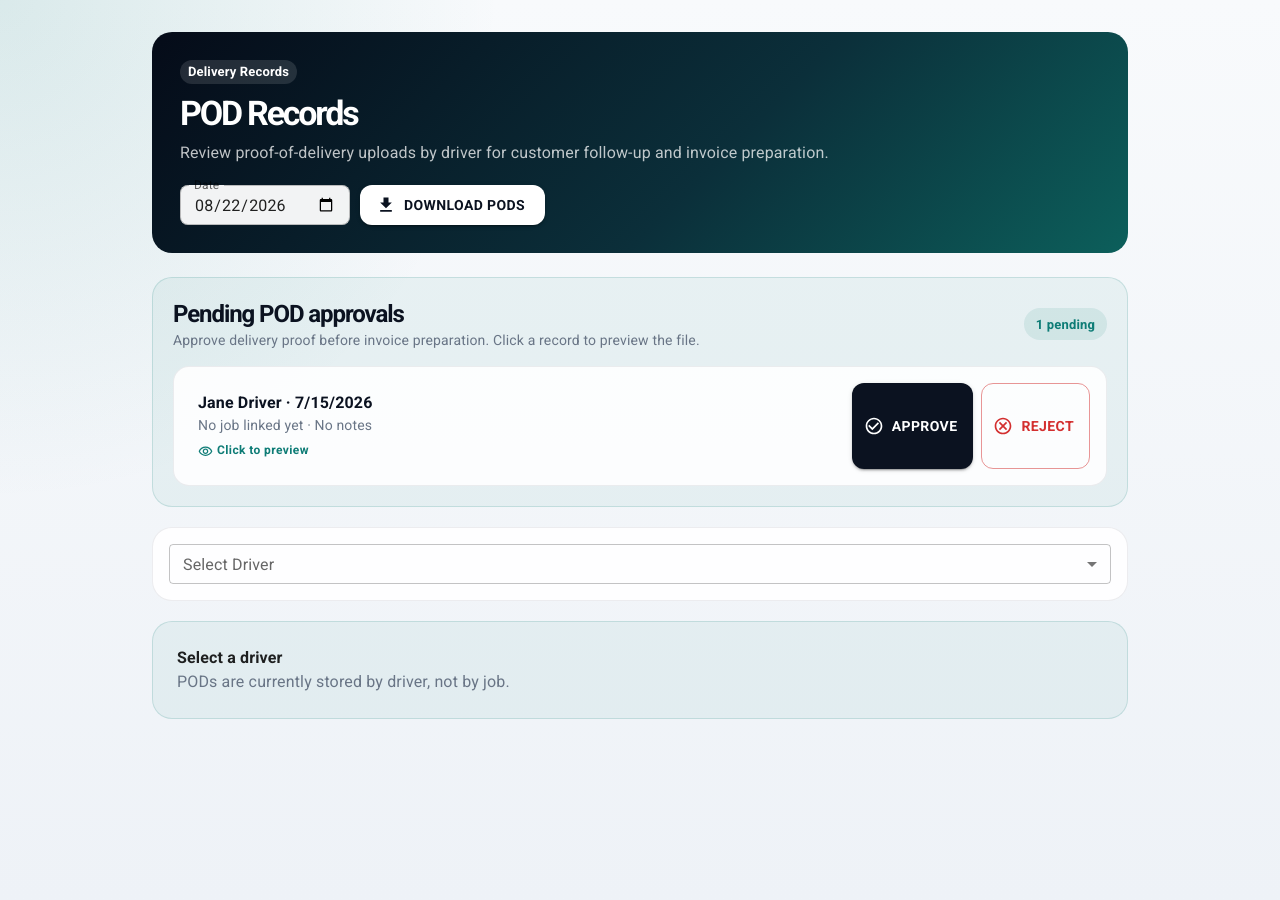
admin PodsList — inline preview › PASS: a failed preview fetch shows an error instead of a blank dialog
The image size is (1280, 900).
Click the text "Jane Driver · 7/15/2026" at (285, 403), box [198,391,372,415]
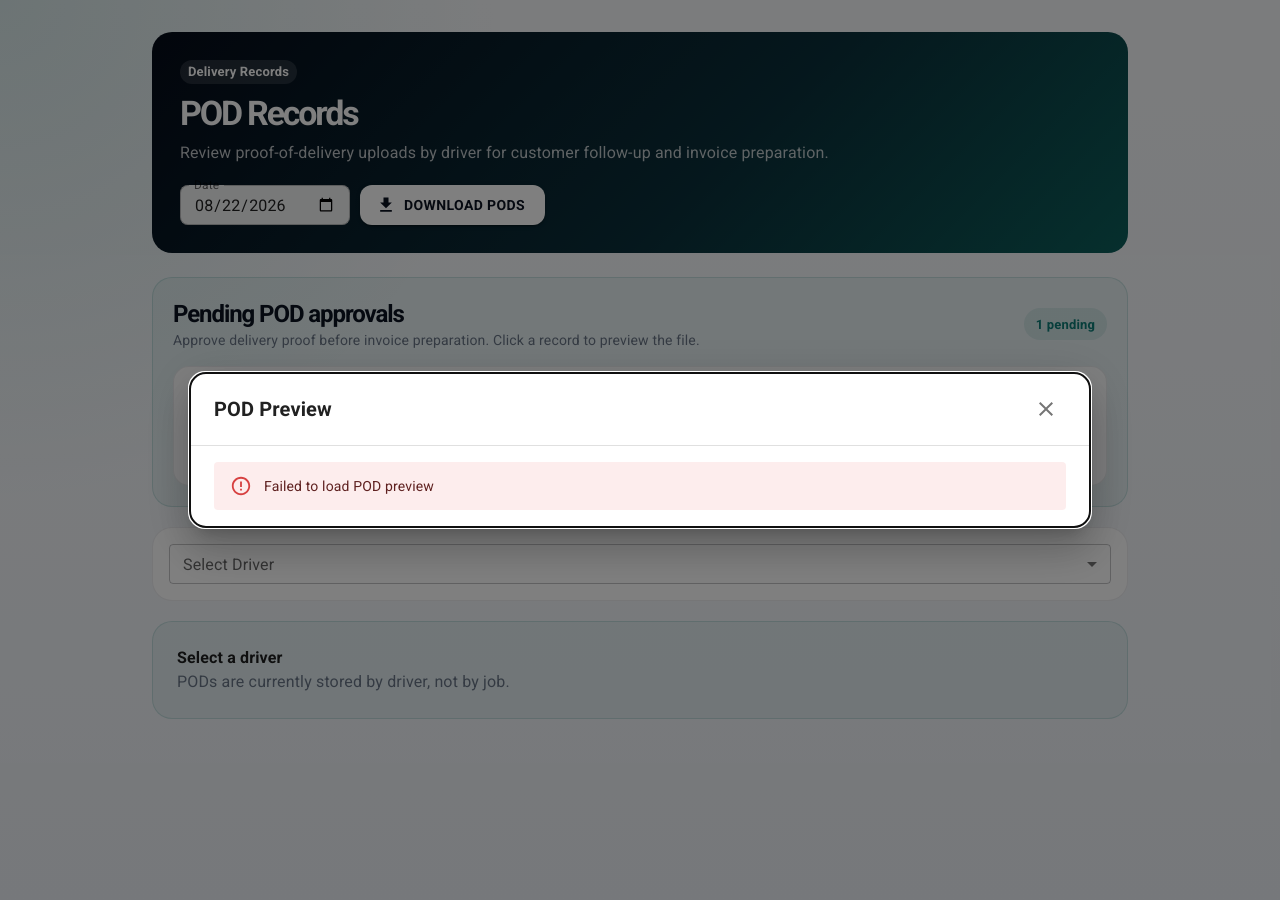
Now the text "Failed to load POD preview" is shown, box [264,478,434,494]
